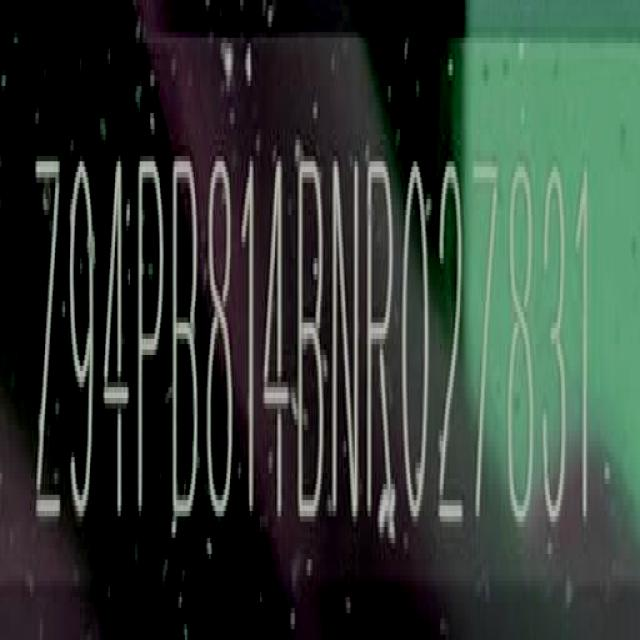0: (400, 161, 433, 541)
1: (572, 157, 589, 530), (240, 156, 256, 529)
2: (434, 165, 466, 541)
3: (543, 168, 572, 534)
4: (262, 150, 293, 528), (103, 158, 133, 540)
7: (469, 156, 500, 536)
8: (507, 160, 537, 534), (207, 152, 235, 530)
9: (67, 156, 97, 541)
B: (172, 149, 204, 532), (297, 150, 329, 528)
N: (331, 148, 363, 531)
P: (136, 154, 165, 535)
R: (364, 155, 398, 540)
Z: (36, 153, 64, 540)
